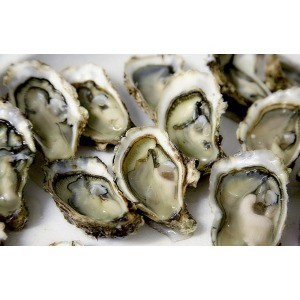oyster_brain food: (36, 71, 248, 212)
